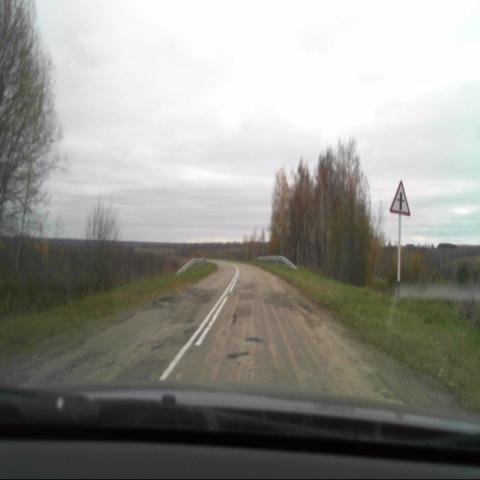2_3: (389, 179, 411, 217)
